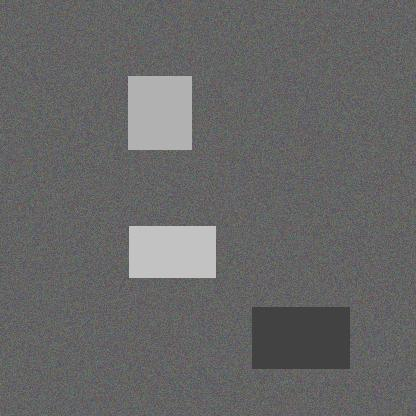occupied: (252, 47, 312, 129)
